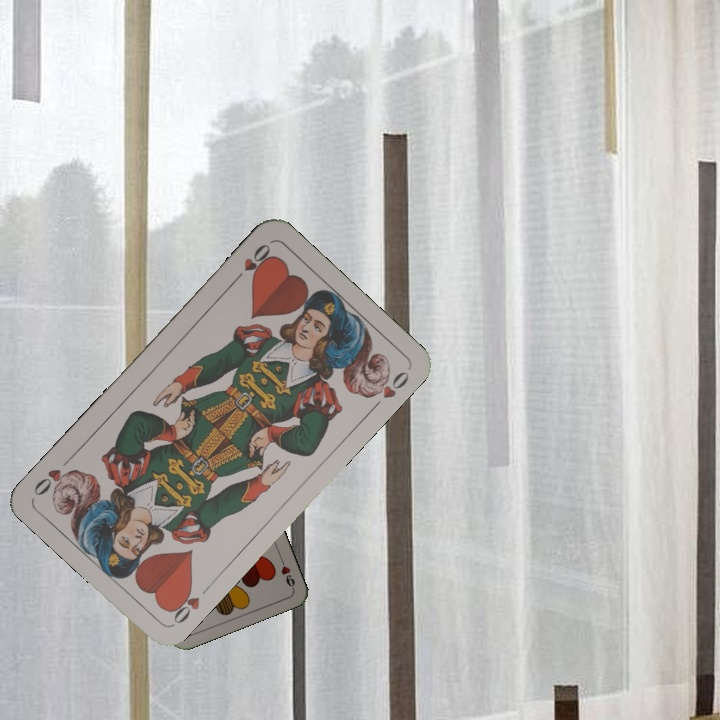H9: (275, 552, 297, 591)
HO: (164, 579, 214, 627), (228, 239, 275, 287)
